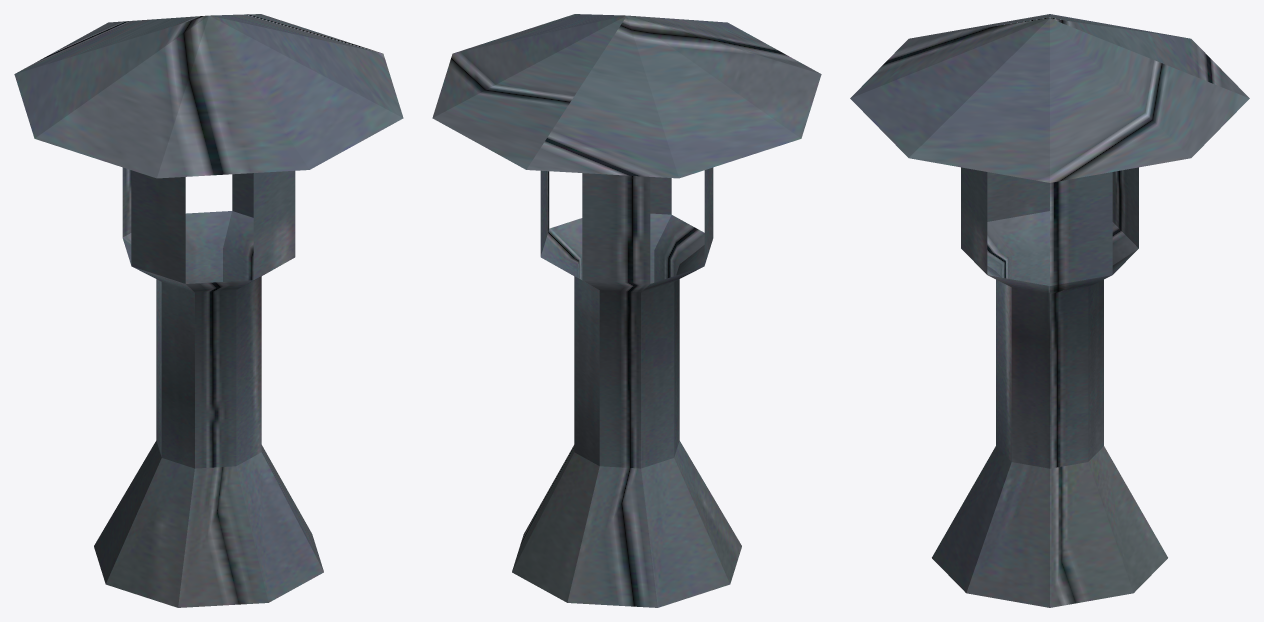
File: fut2.obj
3 renders of one model, left to right at view 1: azimuth 30°, elevation 25°; view 2: azimuth 150°, elevation 25°; view 3: azimuth 270°, elevation 25°, orthographic.
Visible parts, largest first — view 1: pCylinder1; view 2: pCylinder1; view 3: pCylinder1.
Part boxes in pixels (x1,y1,x2,y2): pCylinder1: (14, 14, 403, 607); pCylinder1: (432, 14, 821, 607); pCylinder1: (850, 14, 1249, 607).
Bounding box in the file's own units: 469 × 698 × 469.
Materials: 1 (1 with a texture image).
